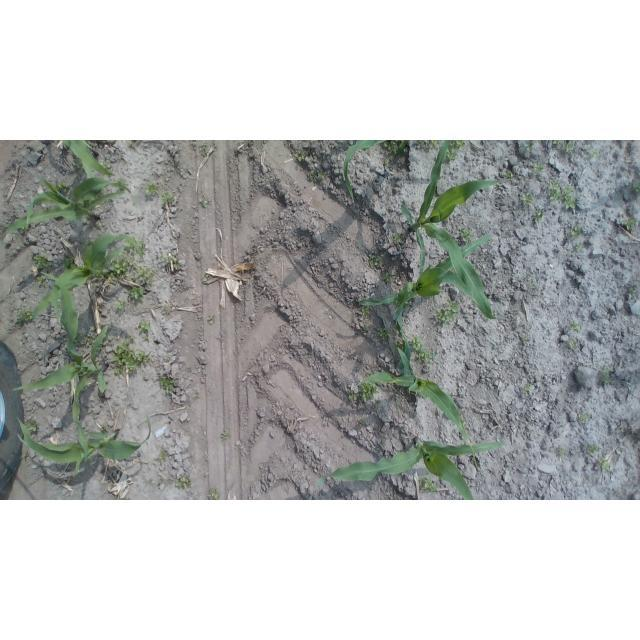Maize: (10, 271, 108, 461), (399, 140, 498, 320), (358, 235, 494, 361), (362, 350, 481, 473), (309, 436, 507, 500), (32, 227, 145, 325), (16, 415, 153, 475), (1, 175, 134, 234), (343, 141, 387, 208), (61, 141, 116, 180)
Weeds: (111, 339, 149, 377), (108, 252, 138, 283), (410, 334, 440, 364), (434, 299, 460, 328), (444, 141, 466, 164), (358, 380, 378, 403), (137, 267, 155, 292), (157, 374, 179, 394), (74, 332, 95, 351), (124, 236, 144, 254), (159, 253, 181, 269), (34, 253, 53, 271), (562, 185, 576, 209), (383, 140, 407, 154), (549, 179, 562, 202), (419, 476, 437, 492), (599, 365, 614, 384), (50, 181, 70, 195), (16, 309, 34, 324), (139, 320, 151, 340), (129, 287, 145, 302), (175, 475, 192, 489), (144, 181, 160, 195), (161, 192, 177, 206), (296, 149, 312, 163), (64, 255, 77, 272), (368, 253, 382, 268), (308, 169, 325, 181), (27, 420, 40, 435), (521, 193, 534, 208), (417, 140, 441, 148), (378, 327, 391, 341), (114, 299, 128, 311), (98, 161, 112, 173), (533, 163, 545, 177), (76, 159, 87, 174), (348, 388, 360, 401), (116, 180, 129, 192), (460, 229, 472, 242), (534, 209, 545, 223), (625, 216, 636, 230), (600, 459, 613, 470), (209, 488, 220, 500), (587, 443, 600, 453), (82, 239, 95, 249), (571, 227, 582, 238), (588, 147, 600, 157), (566, 141, 575, 154), (96, 341, 104, 355), (202, 140, 209, 156), (393, 342, 403, 353), (504, 168, 513, 180), (394, 233, 404, 243), (360, 306, 369, 317), (384, 272, 393, 283), (81, 199, 91, 208), (568, 339, 577, 349), (382, 159, 393, 167), (157, 451, 168, 459), (20, 225, 31, 233), (200, 200, 209, 209), (524, 141, 532, 151), (559, 447, 567, 456), (128, 140, 137, 148), (98, 188, 106, 197), (578, 414, 588, 421), (203, 275, 213, 282), (224, 429, 230, 440), (36, 276, 44, 284), (105, 330, 112, 339), (576, 243, 585, 250), (92, 274, 104, 279), (525, 384, 532, 392), (628, 288, 636, 295), (345, 140, 352, 148), (633, 184, 640, 192), (572, 324, 579, 332), (131, 196, 137, 205), (359, 419, 365, 427), (209, 316, 215, 324), (553, 140, 562, 145), (96, 221, 103, 227), (515, 211, 523, 216), (404, 301, 409, 309), (395, 299, 400, 307), (375, 401, 381, 407), (23, 452, 29, 458), (530, 285, 537, 290), (363, 148, 369, 153), (89, 325, 95, 330), (163, 356, 169, 361), (522, 339, 528, 344), (364, 326, 369, 331), (122, 497, 128, 500), (66, 236, 70, 240), (101, 428, 104, 433), (492, 311, 494, 317)
